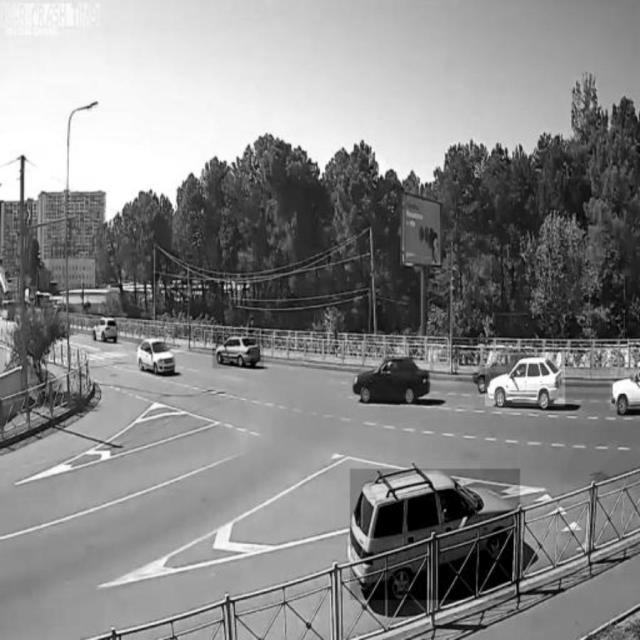vehicle: (350, 469, 520, 600), (485, 352, 565, 406), (352, 353, 433, 404), (213, 329, 264, 369), (135, 334, 179, 379), (610, 359, 640, 411), (92, 312, 118, 344)
